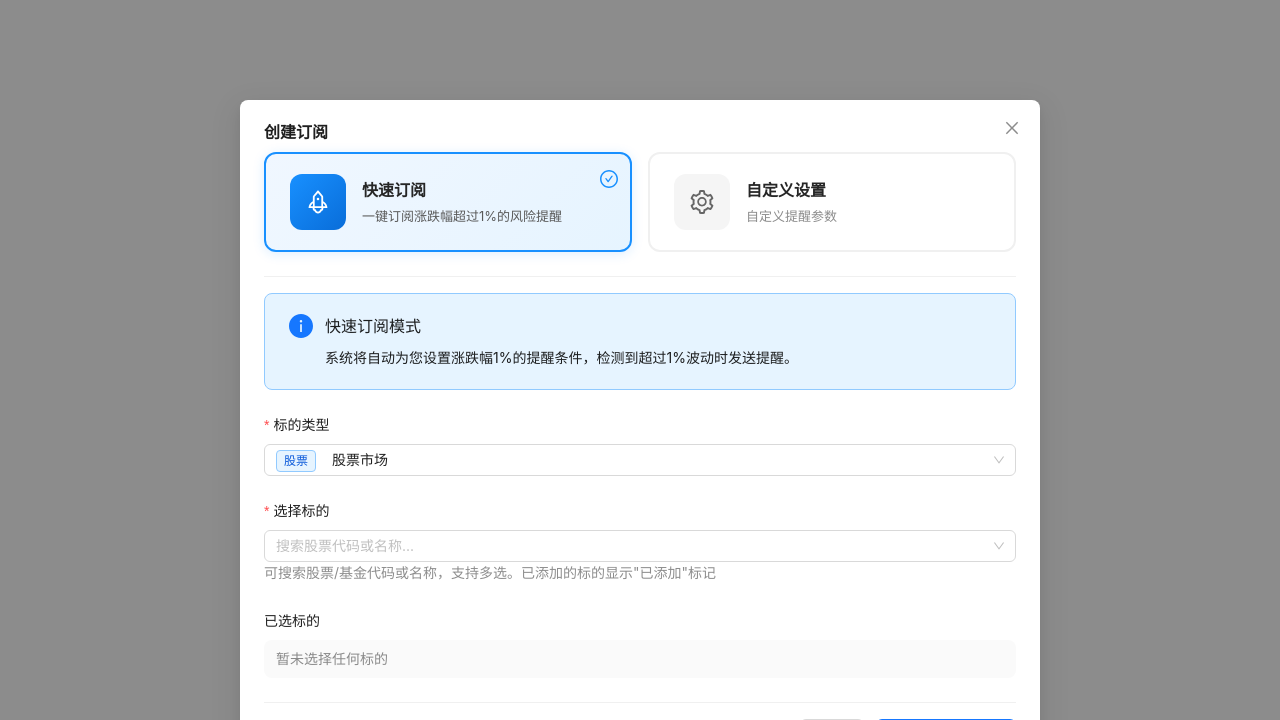
Test: SubscriptionCreate › Custom Mode › should show remark input in custom mode
The width and height of the screenshot is (1280, 720).
Note: Click custom mode card
Click the text "自定义设置" at (786,190), box 746,180 -> 826,200
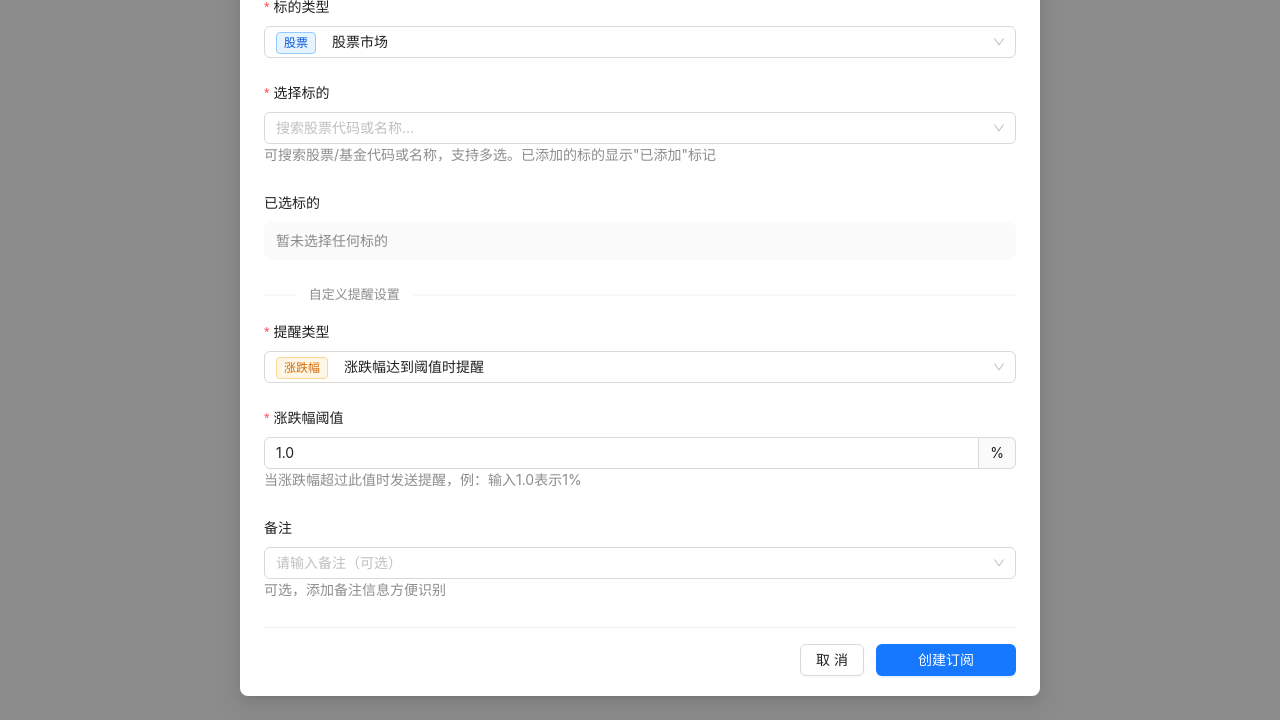
Result: the text "备注" is shown at 264,517 -> 306,539
